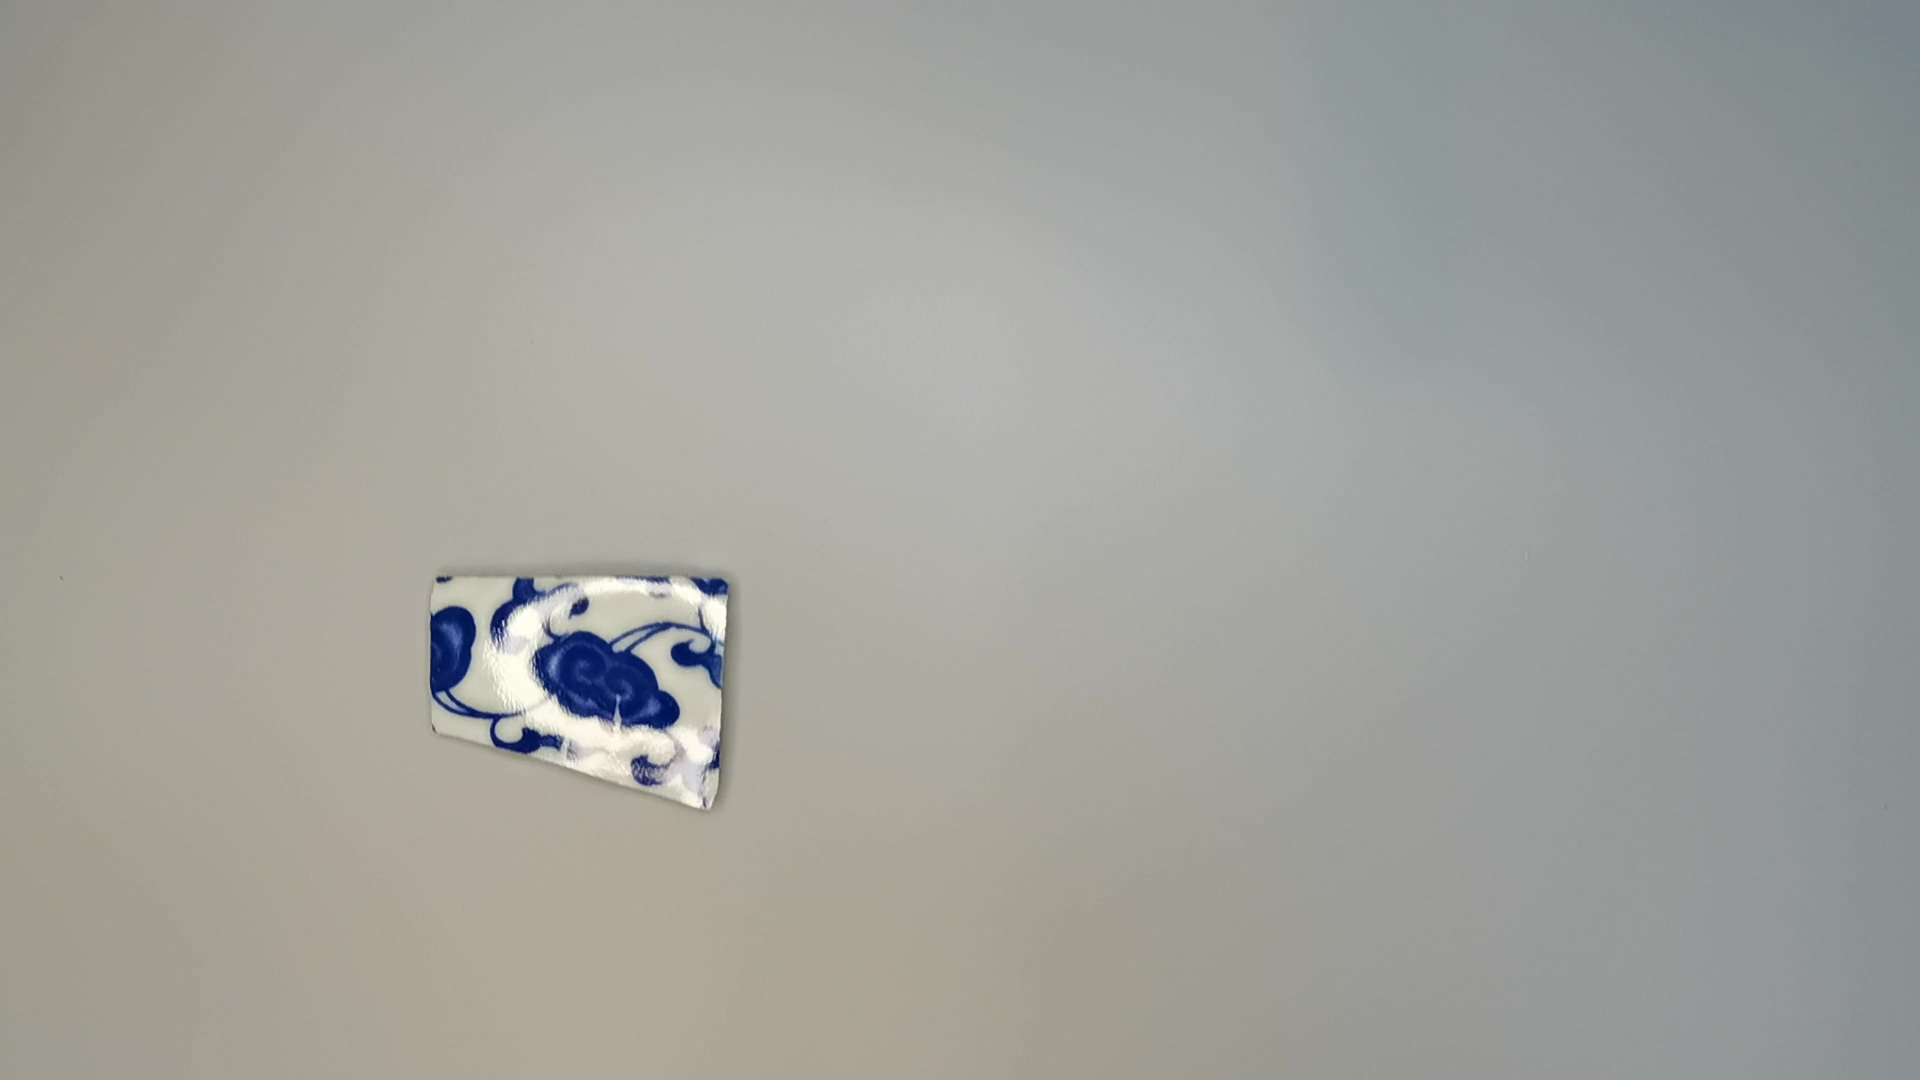ceramic: (411, 567, 749, 820)
